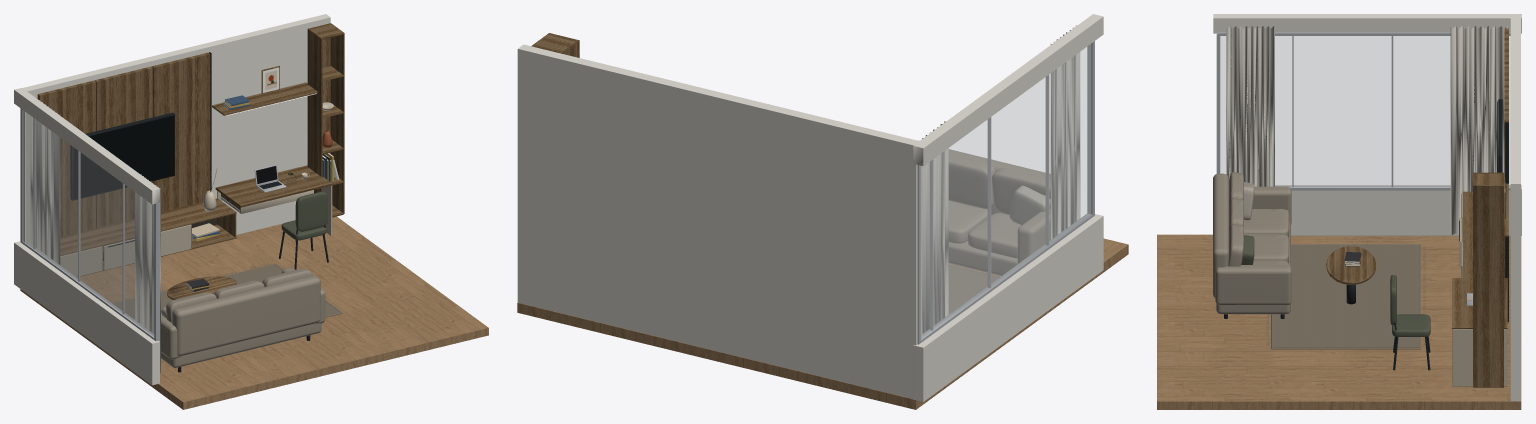
The model's file is sala.glb.
3 renders of one model, left to right at view 1: azimuth 30°, elevation 25°; view 2: azimuth 150°, elevation 25°; view 3: azimuth 270°, elevation 25°, orthographic. The views are drawn at different scales.
Parts seen in each view (by area): view 1: Piso, Painel de carvalho, Parede esquerda inferior, Janela • vidro, Sofá • almofada do assento, Cortina recolhida frente, TV • tela, Janela • montante, Rack • porta fixa, Almofada decorativa.001, Painel • sombra lateral, Franja tapete (+3 smaller); view 2: Parede esquerda inferior, Janela • vidro, Cortina recolhida frente, Sofá • almofada do assento, Janela • montante, Piso, Franja tapete, Almofada decorativa, Painel de carvalho; view 3: Piso, Janela • vidro, Parede esquerda inferior, Cortina recolhida frente, Franja tapete, Painel de carvalho, Sofá • almofada do assento, Janela • montante, Rack • porta fixa, Almofada decorativa.001, Painel • sombra lateral, Almofada decorativa.
Part boxes in pixels (x1,y1,x2,y2): Piso: (20,216,488,409); Painel de carvalho: (37,23,344,299); Parede esquerda inferior: (14,14,330,385); Janela • vidro: (25,112,153,336); Sofá • almofada do assento: (161,267,325,367); Cortina recolhida frente: (30,97,160,373); TV • tela: (73,115,277,199); Janela • montante: (20,108,286,341); Rack • porta fixa: (60,185,332,276); Almofada decorativa.001: (281,191,327,240); Painel • sombra lateral: (70,52,328,372); Franja tapete: (111,263,342,319); Parede esquerda inferior: (517,14,1103,401); Janela • vidro: (922,44,1091,337); Cortina recolhida frente: (919,25,1080,333); Sofá • almofada do assento: (948,149,1050,275); Janela • montante: (917,41,1094,344); Piso: (517,238,1128,409); Franja tapete: (948,264,999,313); Almofada decorativa: (1009,185,1050,224); Painel de carvalho: (531,33,579,57); Piso: (1157,234,1521,409); Janela • vidro: (1220,36,1510,185); Parede esquerda inferior: (1213,14,1521,401); Cortina recolhida frente: (1226,26,1508,235); Franja tapete: (1266,244,1425,349); Painel de carvalho: (1326,28,1508,387); Sofá • almofada do assento: (1213,172,1291,314); Janela • montante: (1216,32,1510,305); Rack • porta fixa: (1452,193,1507,386); Almofada decorativa.001: (1241,235,1430,336); Painel • sombra lateral: (1224,99,1508,370); Almofada decorativa: (1243,182,1254,220).
Size of the model in its own units: 4.69 by 2.91 by 4.26.
27 materials, 8 textured.
